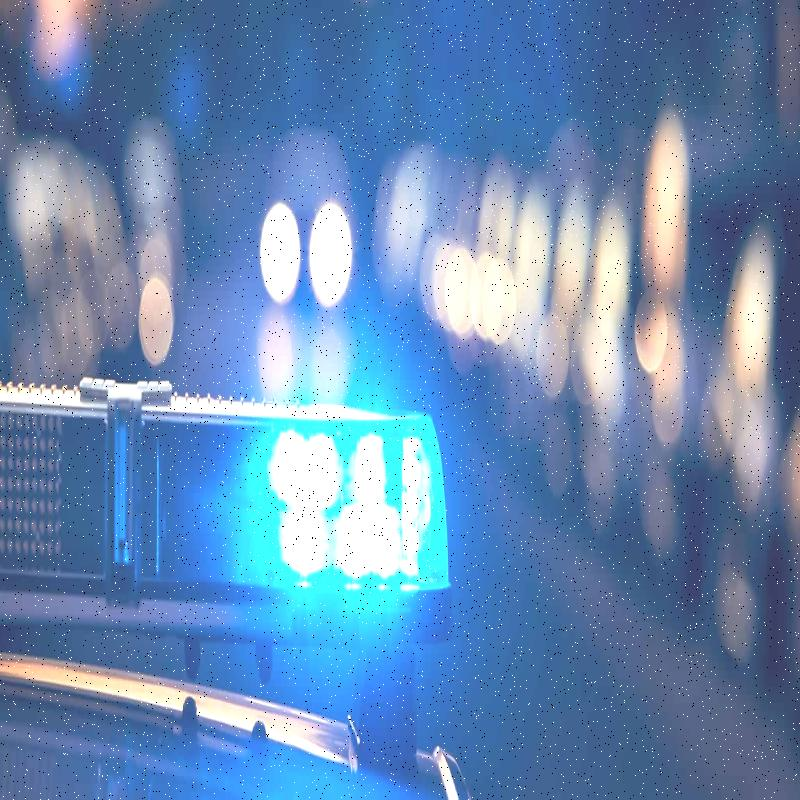AmbulanceSiren: (0, 357, 466, 666)
